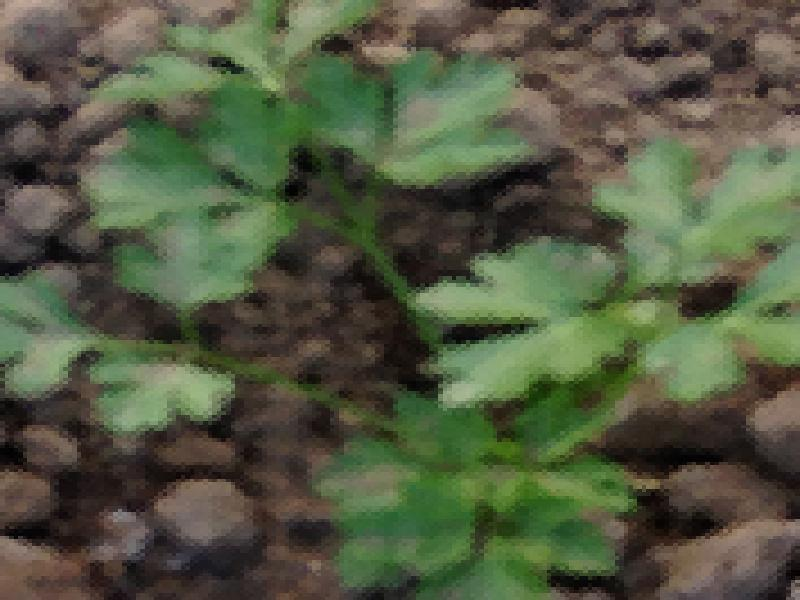radish: (87, 0, 765, 600)
